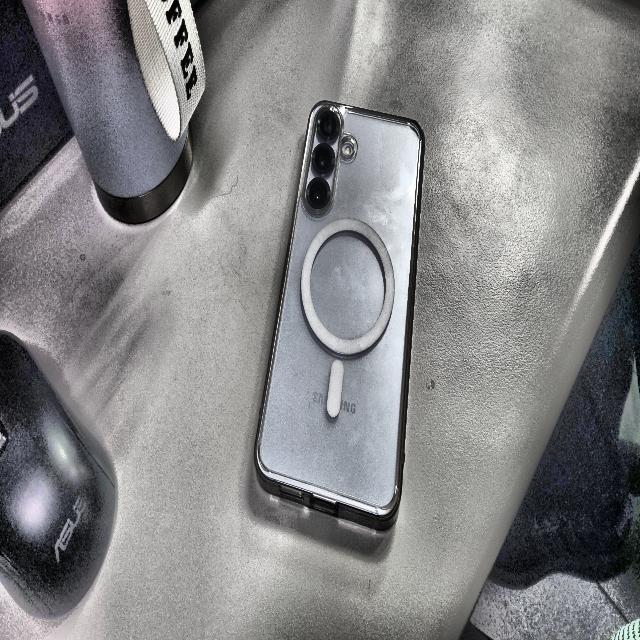MOUSE: (0, 332, 116, 618)
PHONE: (254, 101, 424, 529)
